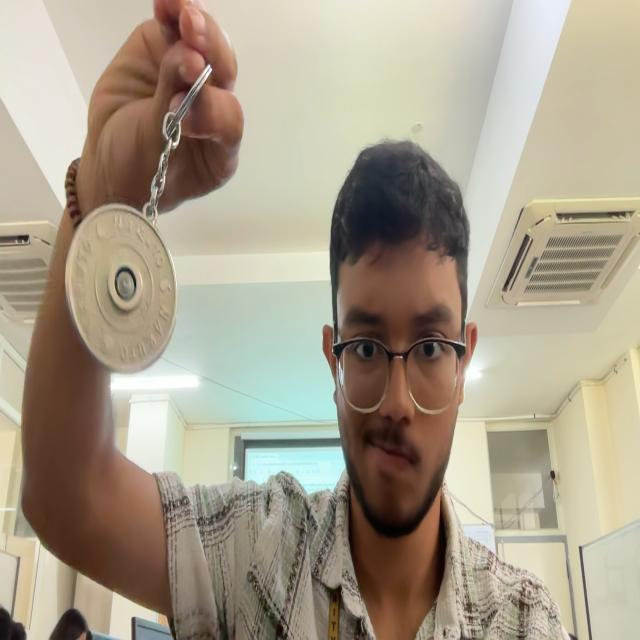dangerous: (65, 65, 212, 373)
